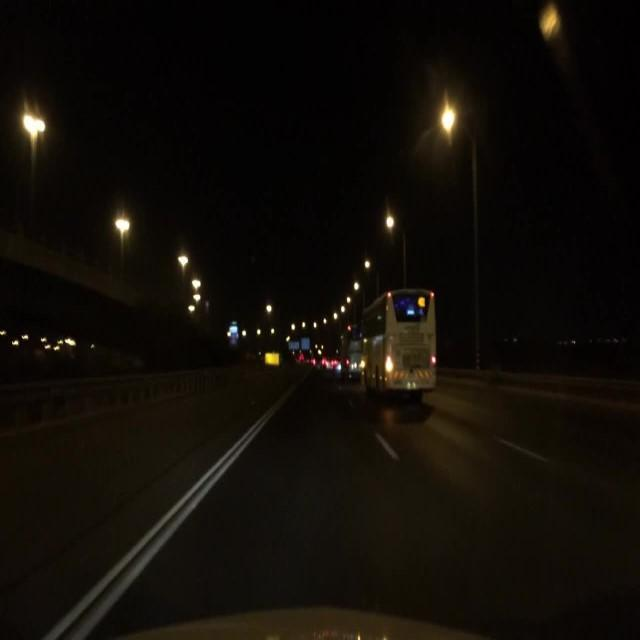normal: (282, 278, 469, 426)
